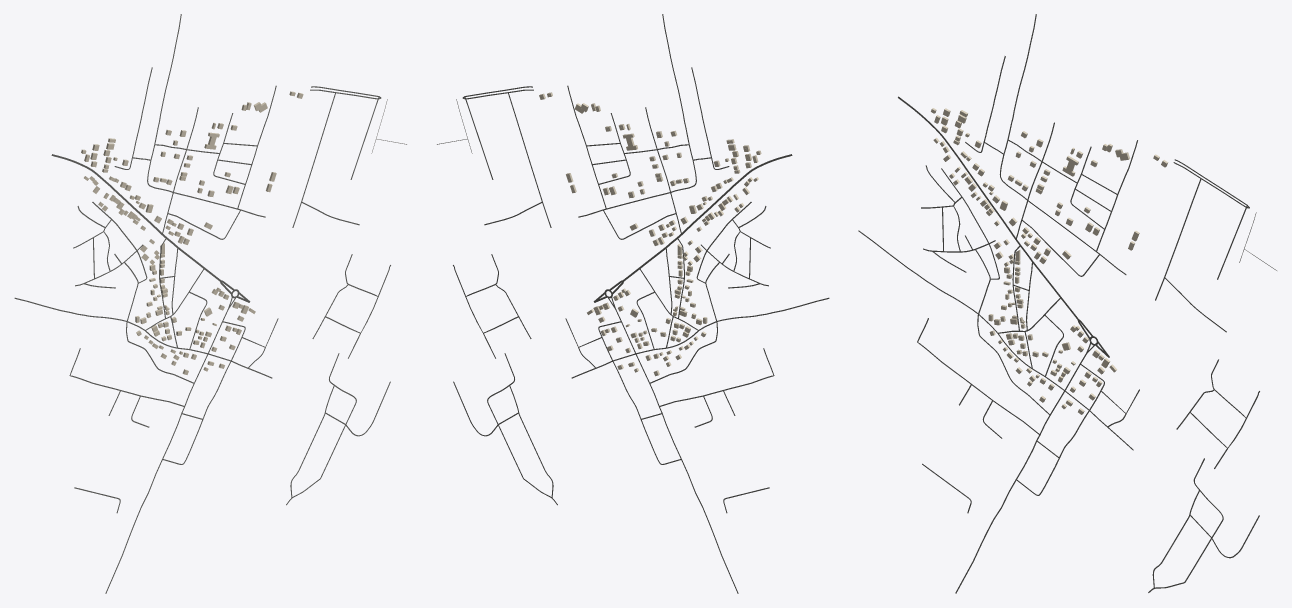
The model's file is madaba_3580_3170.glb.
3 views of the same model, side by side, from view 1: azimuth 30°, elevation 25°; view 2: azimuth 150°, elevation 25°; view 3: azimuth 330°, elevation 25° (orthographic). The views are drawn at different scales.
Parts seen in each view (by area): view 1: Road شارع الوليد بن عبد الملك.004; view 2: Road شارع الوليد بن عبد الملك.004; view 3: Road شارع الوليد بن عبد الملك.004, Road .029.
Part boxes in pixels (box(x1,y1,x2,y2)): Road شارع الوليد بن عبد الملك.004: box(51, 154, 221, 281); Road شارع الوليد بن عبد الملك.004: box(622, 154, 792, 281); Road شارع الوليد بن عبد الملك.004: box(898, 96, 1078, 319); Road .029: box(999, 14, 1126, 274).
Size of the model in its own units: 1200 by 1639 by 8.7.
